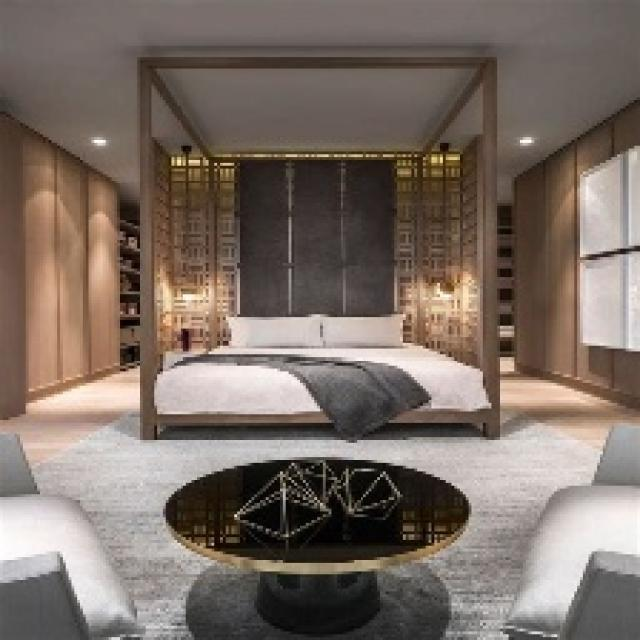Bed: (146, 311, 497, 440)
